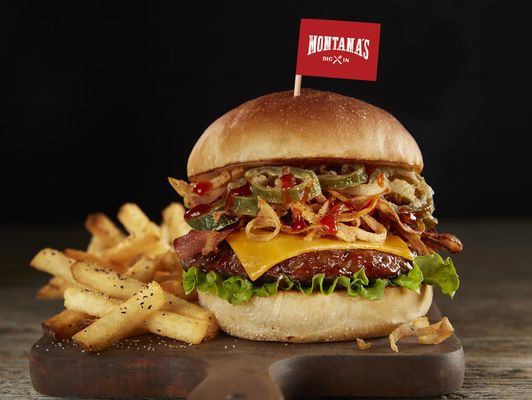soup: (164, 89, 462, 344)
